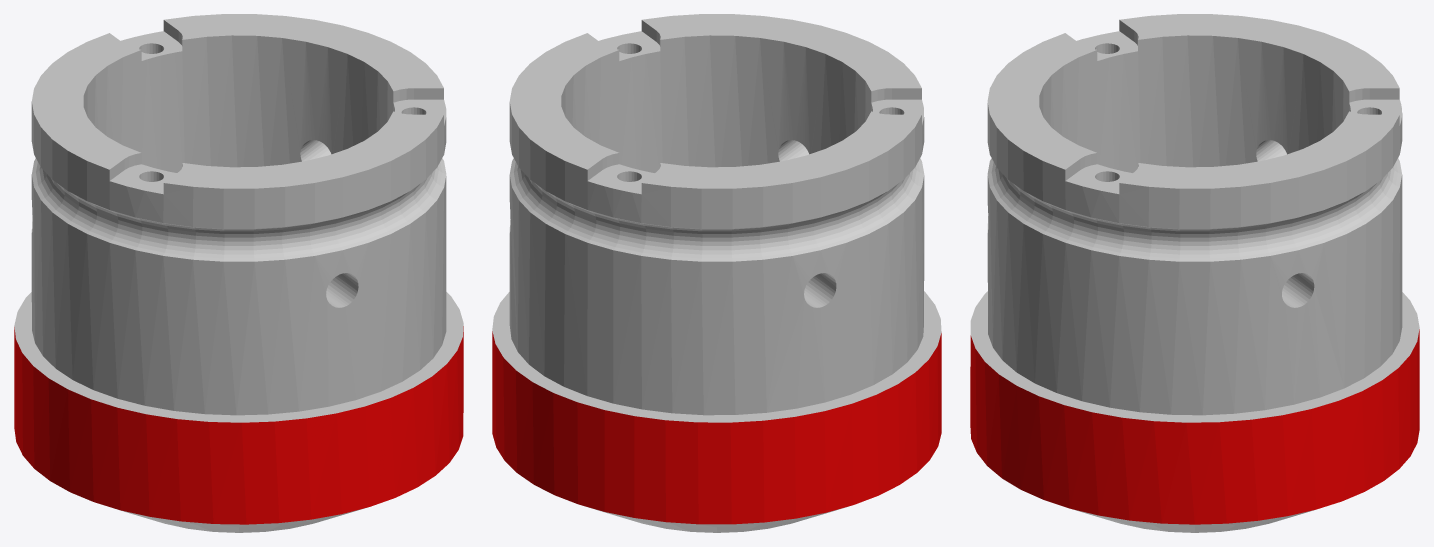
File: case_step_37.obj
3 renders of one model, left to right at view 1: azimuth 30°, elevation 25°; view 2: azimuth 150°, elevation 25°; view 3: azimuth 270°, elevation 25°, orthographic.
Visible parts, largest first — view 1: Object1; view 2: Object1; view 3: Object1.
Part boxes in pixels (left/top/right/bottom): Object1: left=14, top=14, right=463, bottom=532; Object1: left=492, top=14, right=941, bottom=532; Object1: left=970, top=14, right=1419, bottom=532.
Bounding box in the file's own units: 35.99 × 33 × 35.98.
